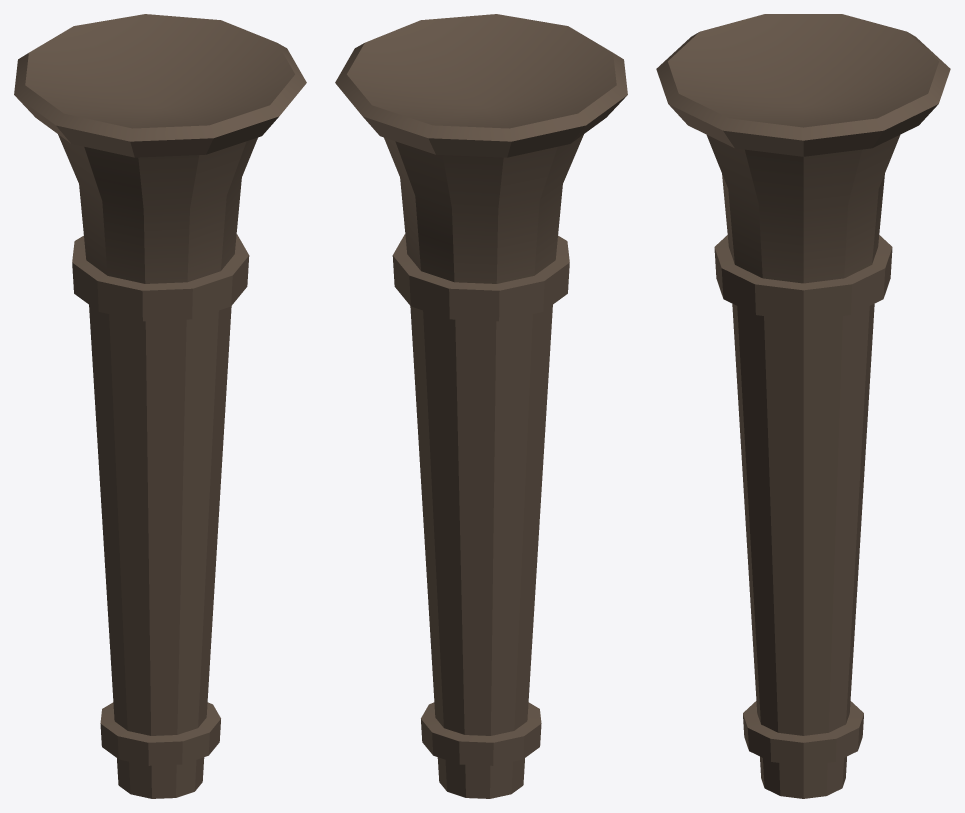
Rendered from UnlitTorch.fbx.
3 views of the same model, side by side, from view 1: azimuth 30°, elevation 25°; view 2: azimuth 150°, elevation 25°; view 3: azimuth 270°, elevation 25° (orthographic).
Parts seen in each view (by area): view 1: UnlitTorch; view 2: UnlitTorch; view 3: UnlitTorch.
Part boxes in pixels (x1=…): UnlitTorch: x1=14, y1=14, x2=306, y2=798; UnlitTorch: x1=335, y1=14, x2=627, y2=798; UnlitTorch: x1=656, y1=14, x2=950, y2=798.
Size of the model in its own units: 14.54 by 39.11 by 14.69.
